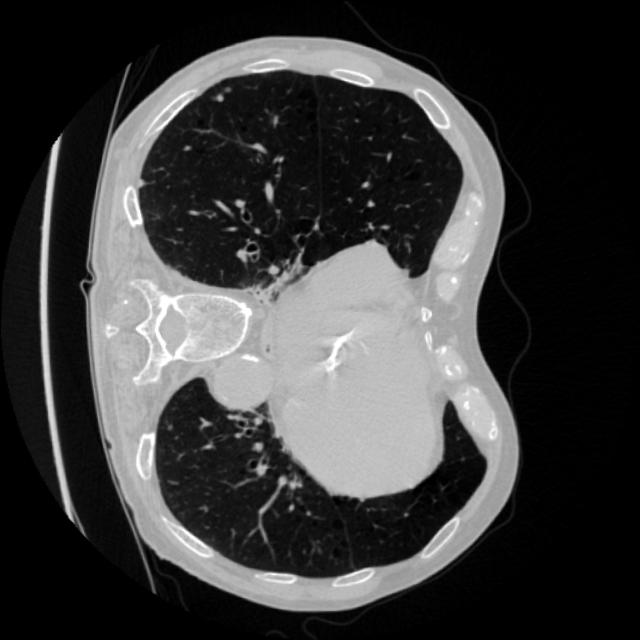nodule: (208, 86, 229, 107)
